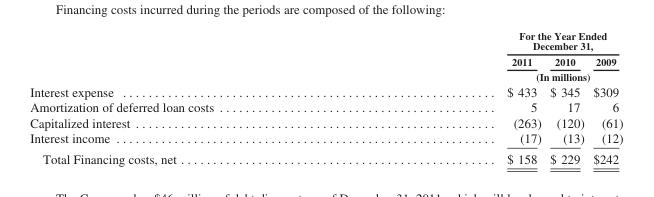table: (29, 29, 622, 165)
table column: (29, 29, 359, 165), (359, 29, 545, 165), (545, 29, 588, 165), (588, 29, 622, 165)
table column header: (29, 29, 622, 83)
table row: (29, 29, 622, 53), (29, 130, 622, 148), (29, 148, 622, 165), (29, 83, 622, 99), (29, 114, 622, 130), (29, 53, 622, 68), (29, 68, 622, 83), (29, 99, 622, 114)
table spanning cell: (359, 29, 622, 53), (359, 68, 622, 83)
